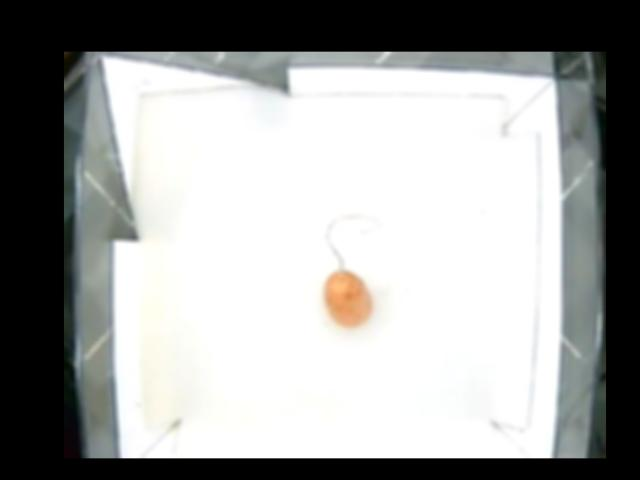Carrot: (323, 265, 382, 325)
